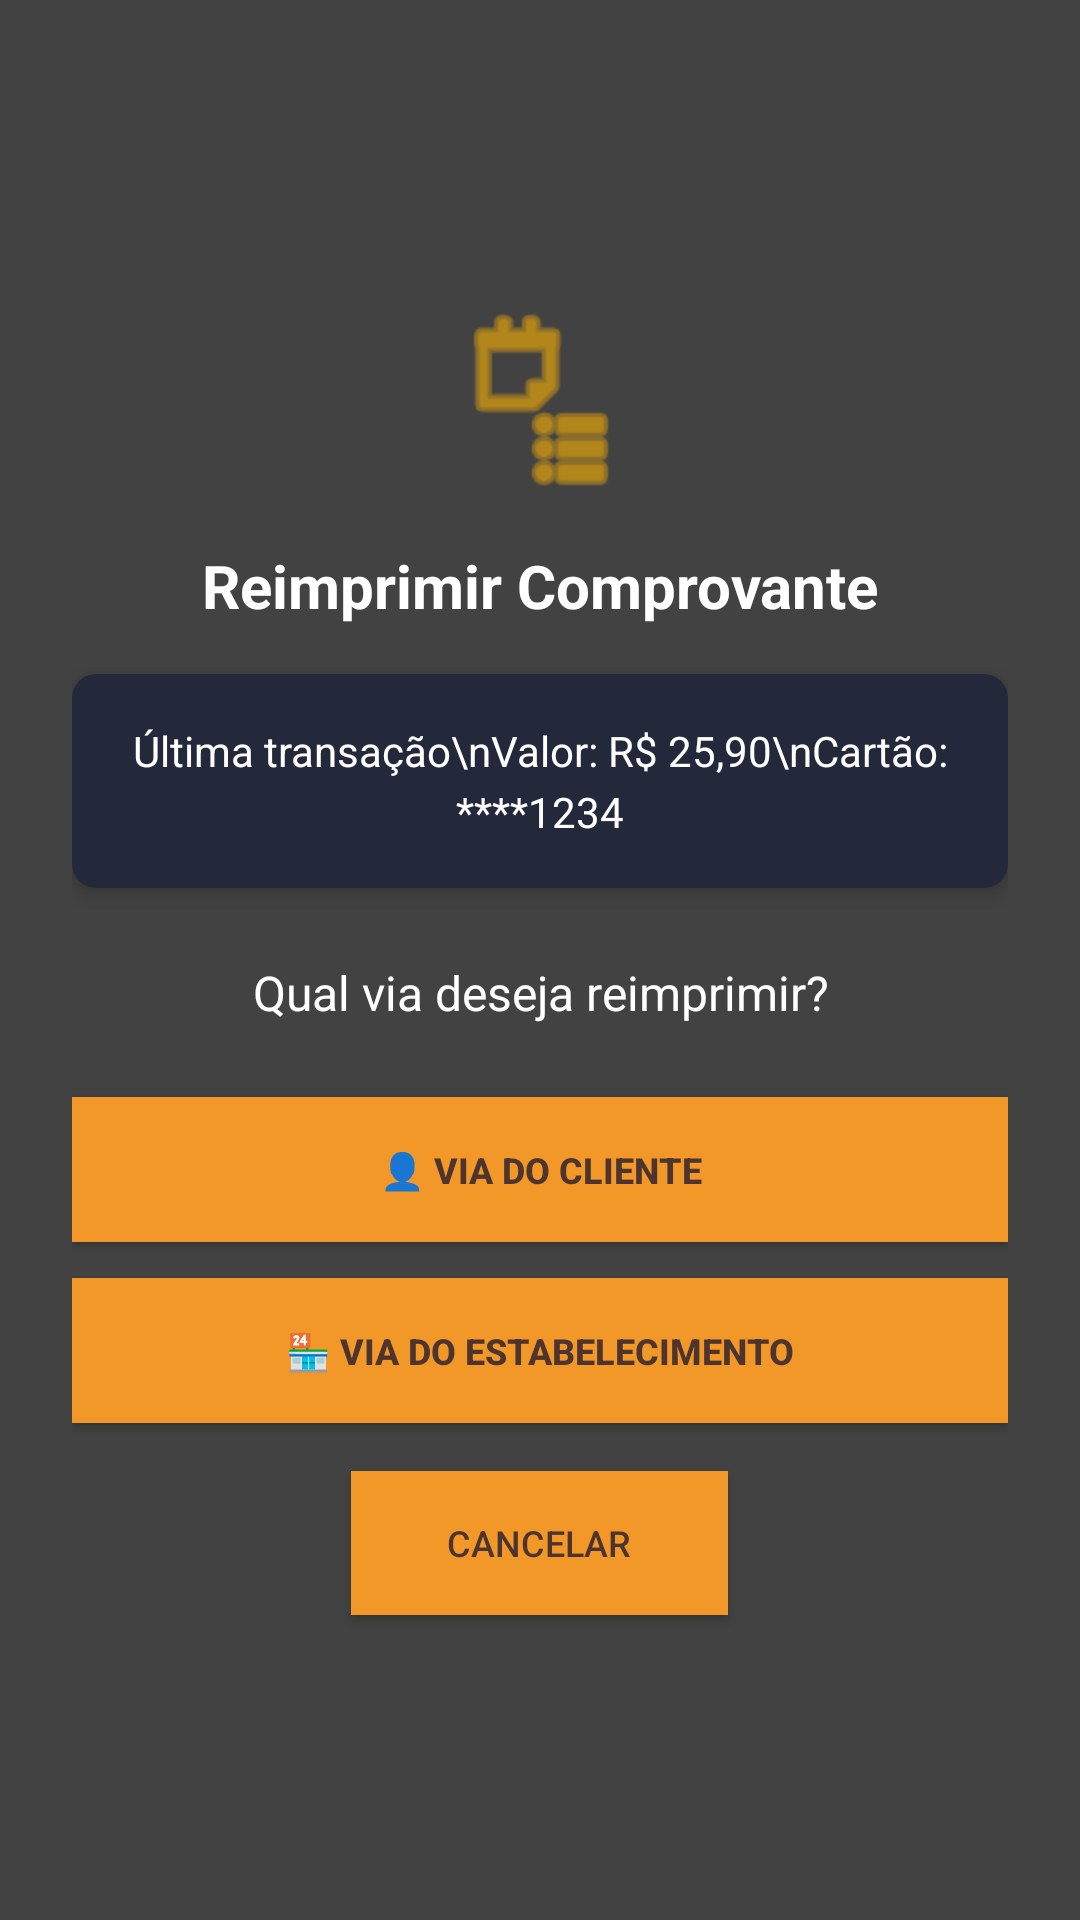

Screen size 1080 × 1920. Icon name, then its box in pixels as (x1, y1, x2, y2):
agenda: (474, 315, 608, 485)
